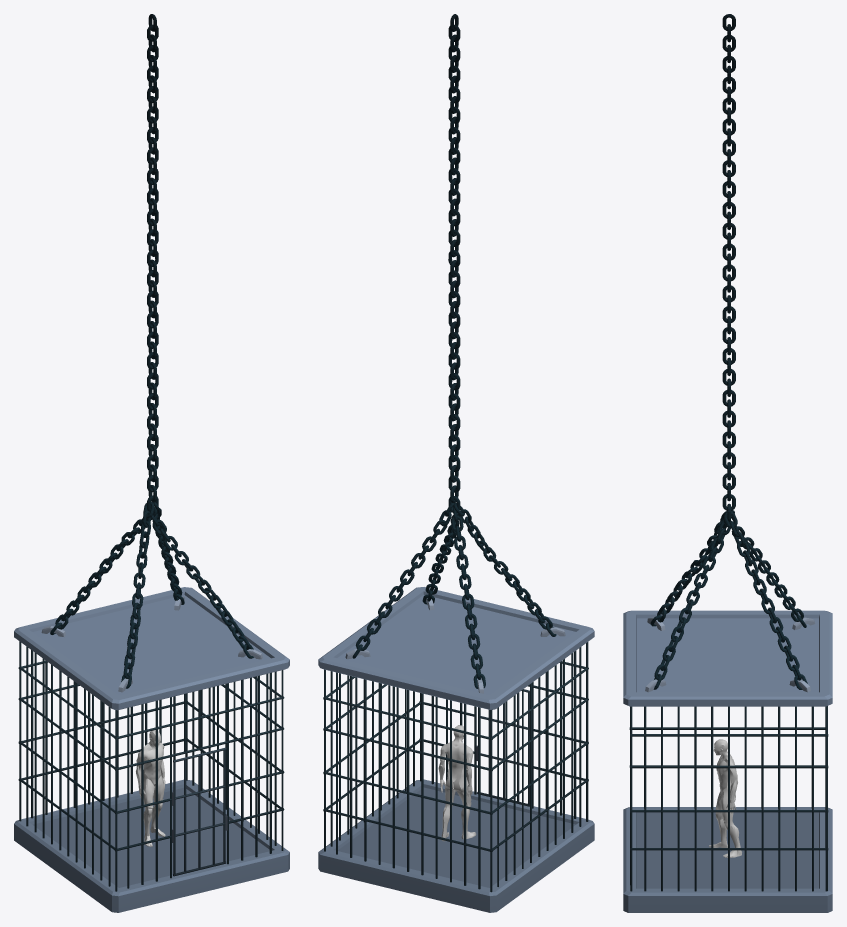
Rendered from cage-susspended.fbx.
3 views of the same model, side by side, from view 1: azimuth 30°, elevation 25°; view 2: azimuth 150°, elevation 25°; view 3: azimuth 270°, elevation 25° (orthographic).
Parts seen in each view (by area): view 1: cage-base, cage-top, chain, wall-W, wall-S, wall-E, wall-N, door, hmm-sms-template; view 2: cage-base, cage-top, chain, wall-N, wall-W, wall-E, wall-S, hmm-sms-template, door; view 3: cage-base, cage-top, chain, wall-E, hmm-sms-template, wall-W, wall-N.
Boxes of the visible parts, left/top/right/bottom form: cage-base: left=14, top=779, right=289, bottom=912; cage-top: left=14, top=587, right=289, bottom=710; chain: left=50, top=14, right=253, bottom=688; wall-W: left=19, top=641, right=117, bottom=886; wall-S: left=114, top=672, right=284, bottom=891; wall-E: left=186, top=670, right=283, bottom=850; wall-N: left=18, top=650, right=187, bottom=818; door: left=172, top=747, right=227, bottom=876; hmm-sms-template: left=136, top=730, right=165, bottom=846; cage-base: left=318, top=779, right=594, bottom=912; cage-top: left=318, top=587, right=594, bottom=709; chain: left=352, top=14, right=556, bottom=688; wall-N: left=323, top=669, right=492, bottom=889; wall-W: left=489, top=647, right=588, bottom=892; wall-E: left=323, top=671, right=421, bottom=846; wall-S: left=419, top=642, right=588, bottom=821; hmm-sms-template: left=438, top=725, right=476, bottom=841; door: left=475, top=689, right=529, bottom=806; cage-base: left=623, top=807, right=832, bottom=912; cage-top: left=623, top=610, right=832, bottom=706; chain: left=650, top=14, right=807, bottom=689; wall-E: left=630, top=706, right=828, bottom=891; hmm-sms-template: left=709, top=739, right=741, bottom=857; wall-W: left=629, top=707, right=825, bottom=808; wall-N: left=825, top=706, right=827, bottom=891.
Size of the model in its own units: 3 by 3 by 13.52.
